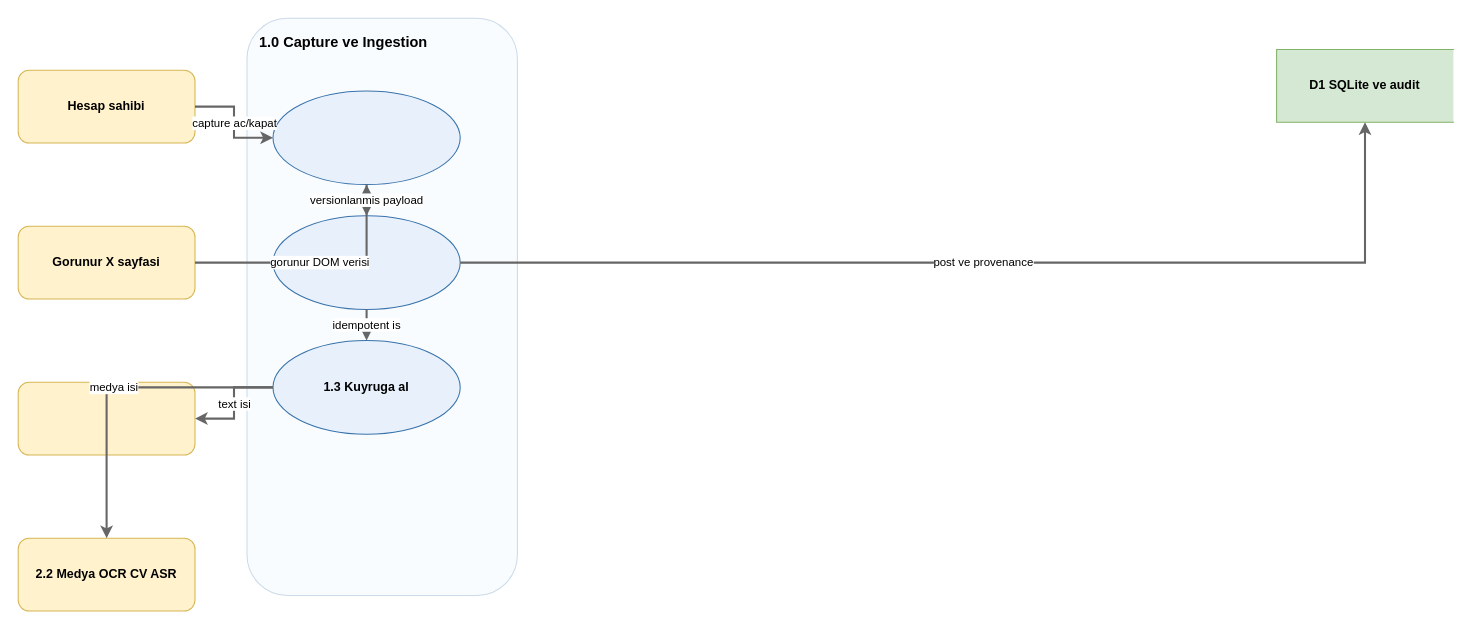
Some shapes in this 1472 by 629 pixel diagram are drawn without their labels. Here are the shapes that lost their labels. From the top down, the box of each, then its label:
(272, 90, 460, 185): 1.1 Gorunur postu yakala
(272, 215, 460, 309): 1.2 Dogrula ve tekillestir
(17, 381, 195, 455): 2.1 Metin ve quote analizi
